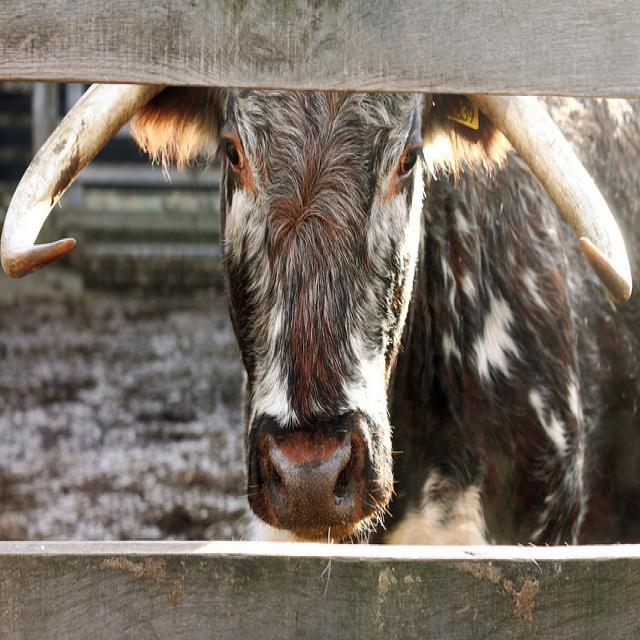cow: (0, 80, 639, 540)
